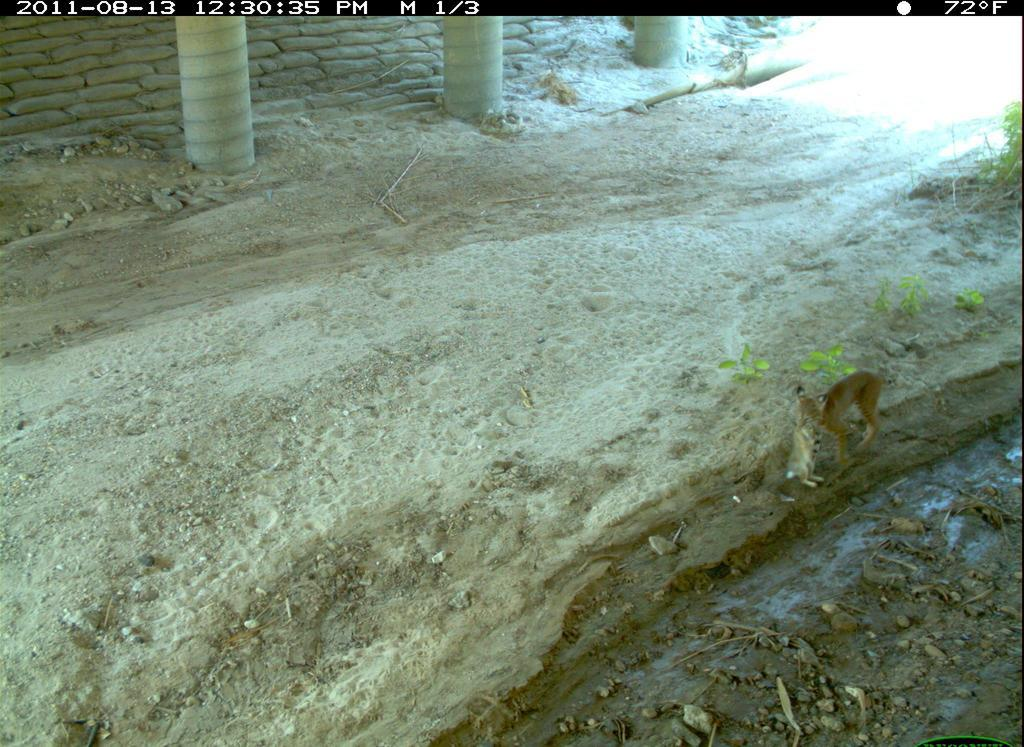bobcat: (781, 364, 908, 500)
